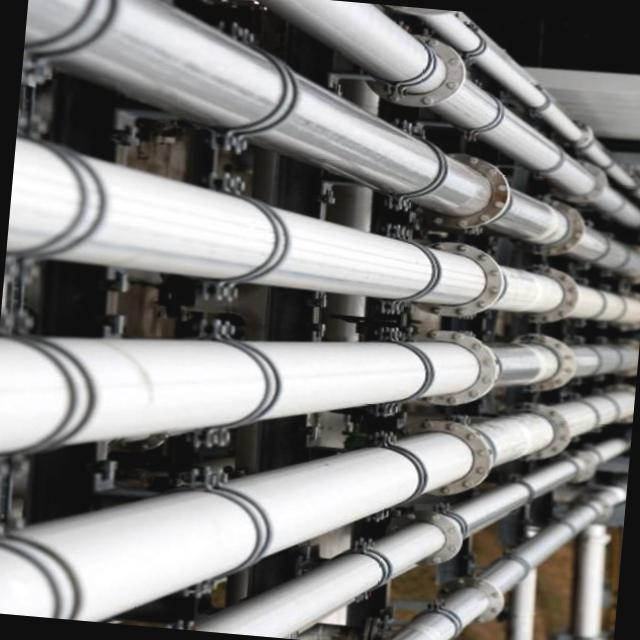gas: (22, 0, 640, 282), (0, 385, 635, 622), (5, 137, 640, 328), (257, 0, 640, 227), (193, 441, 624, 638), (0, 330, 639, 454), (382, 4, 640, 201), (384, 479, 627, 640)
